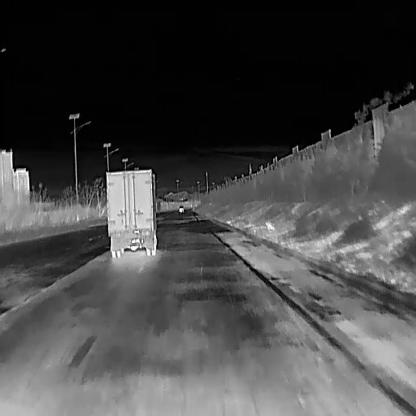car: (178, 204, 183, 212)
truck: (105, 168, 160, 257)
